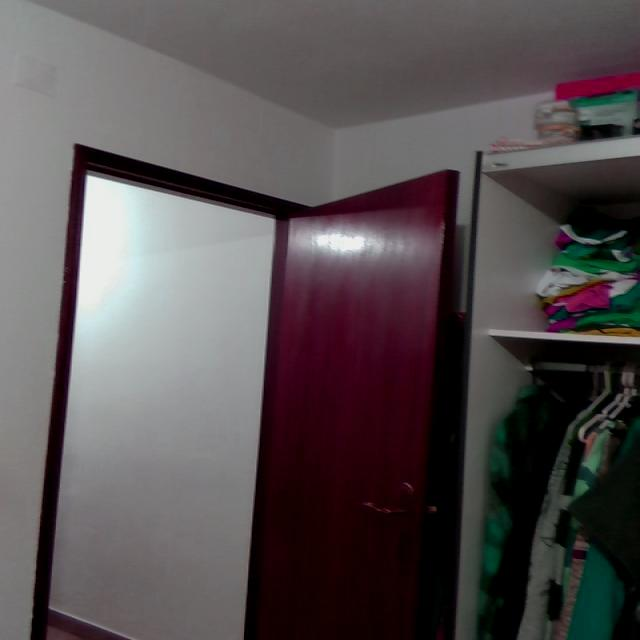door: (39, 137, 495, 640)
